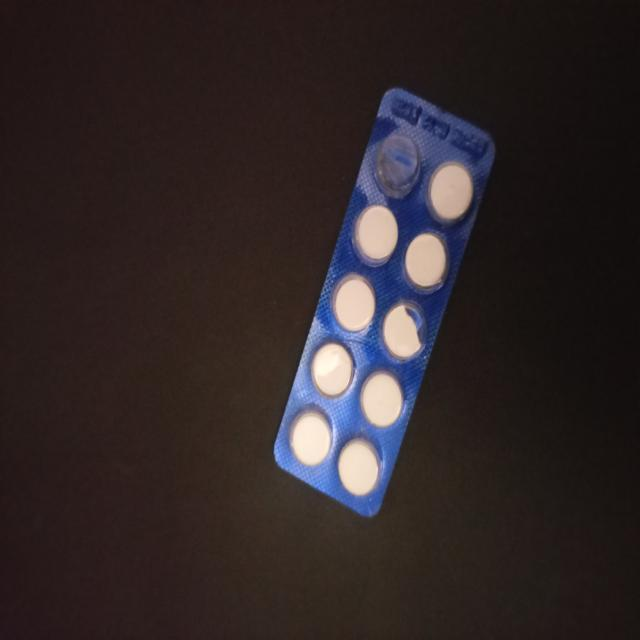defect: (381, 296, 431, 368), (372, 131, 423, 200)
